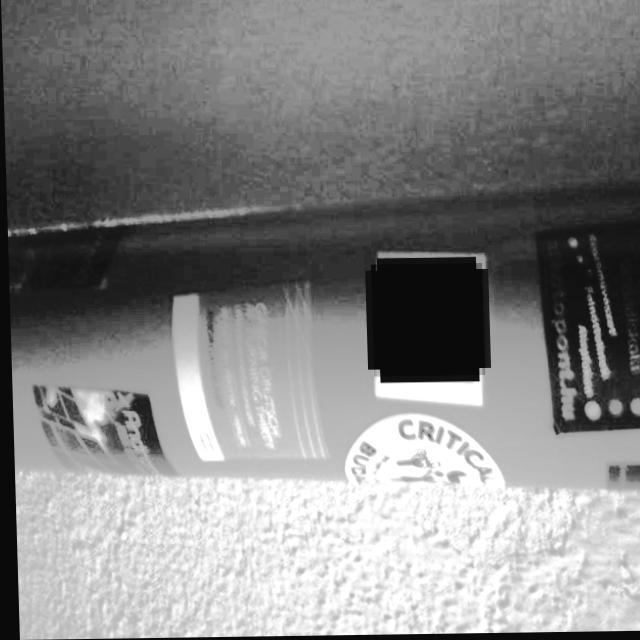qr_code: (368, 264, 482, 378)
